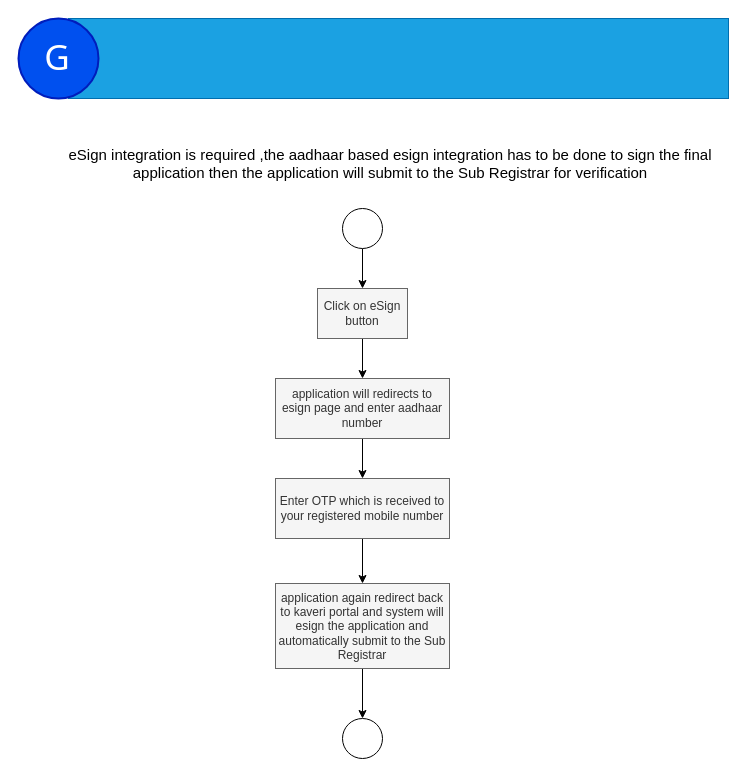
This 746x776 diagram has some shape labels left out. The shapes that lost their labels are listed below. From the top down, each one's centre as x and y in pixels, then its label:
At (398,58): "Document upload and eSign".
At (362,228): "Start".
At (362,738): "Stop".
